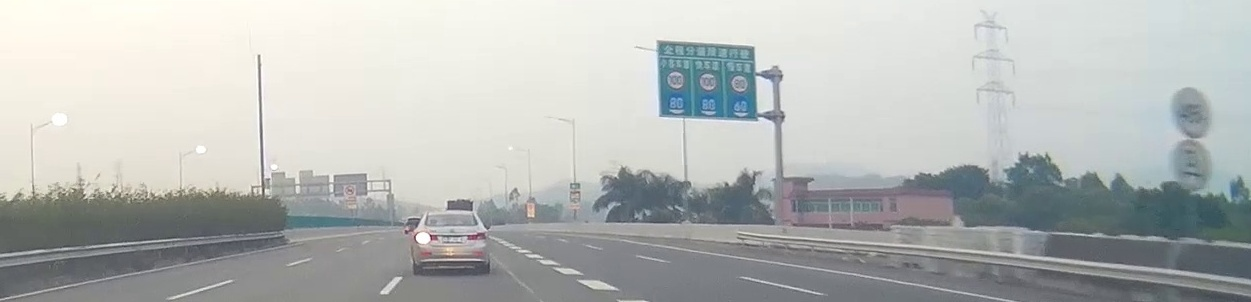L_light: (414, 233, 437, 241)
R_light: (468, 232, 486, 240)
T_light: (446, 215, 457, 217)
day-left: (412, 212, 488, 274)
